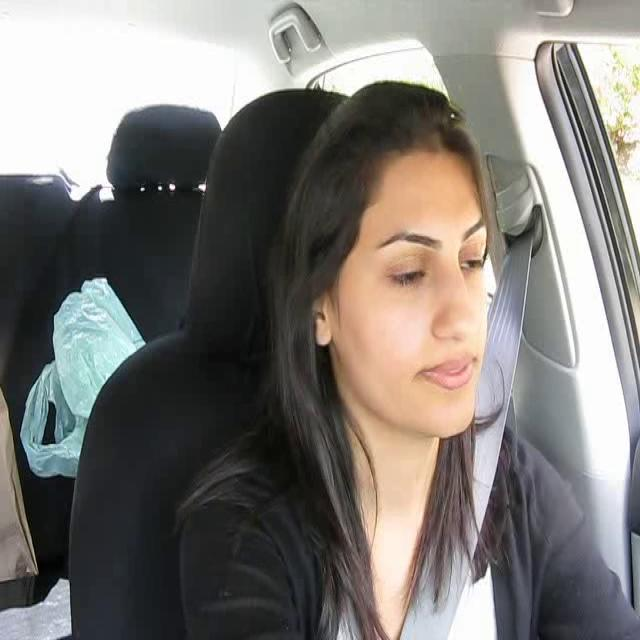close: (417, 348, 480, 394)
